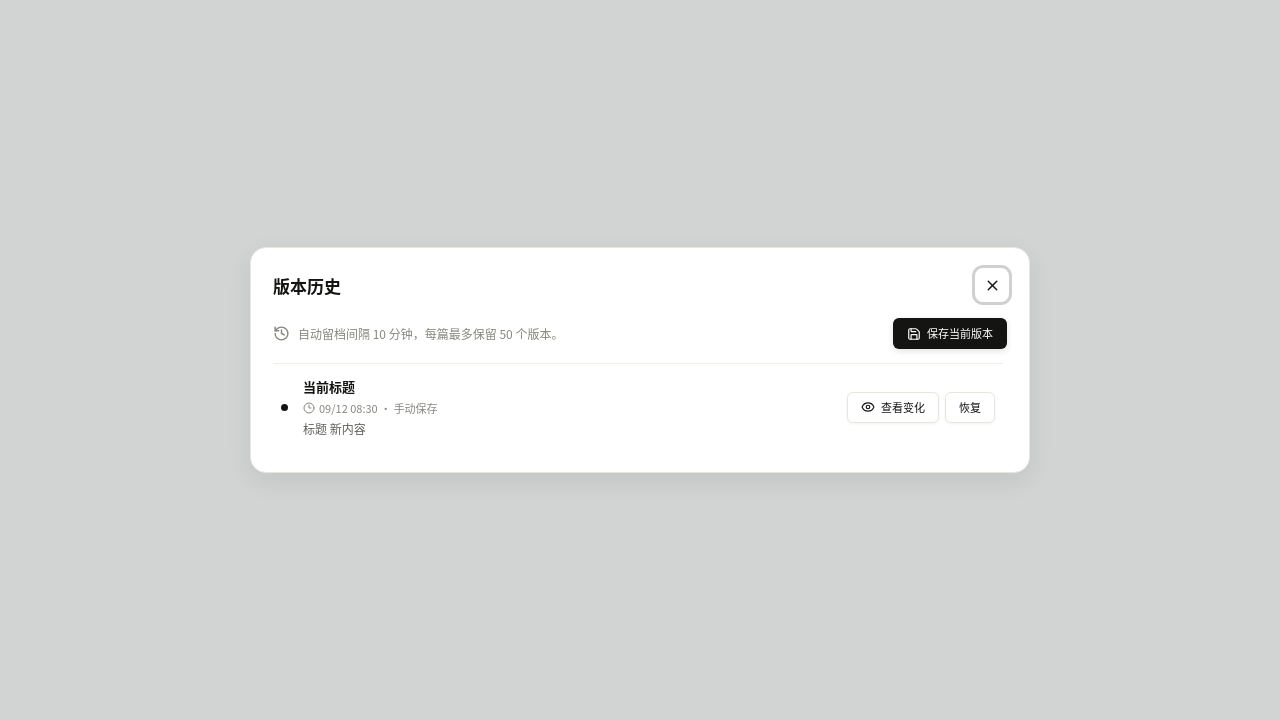
Scenario: VersionHistoryDialog › detects style edits even when the preset id stays the same
Click the button with aria-label "查看版本变化 当前标题": (893, 407) x1=847 y1=392 x2=939 y2=422
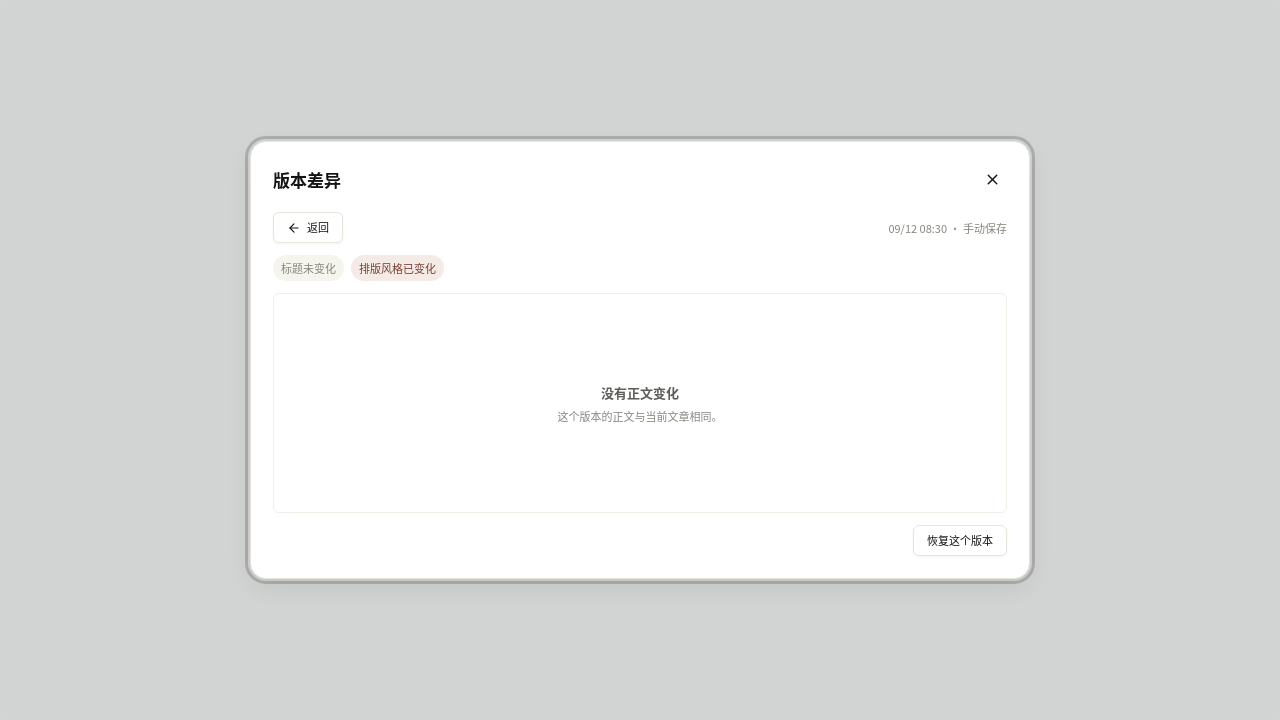
Expected: the text "排版风格已变化" is shown, x1=351 y1=255 x2=444 y2=281
